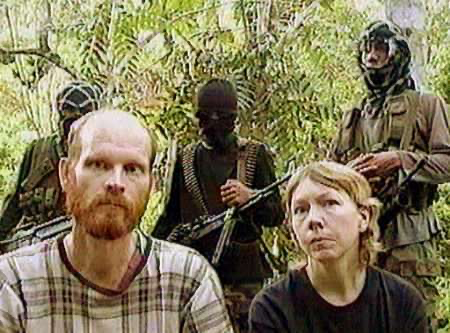Face: (69, 131, 152, 237), (286, 177, 361, 262)
